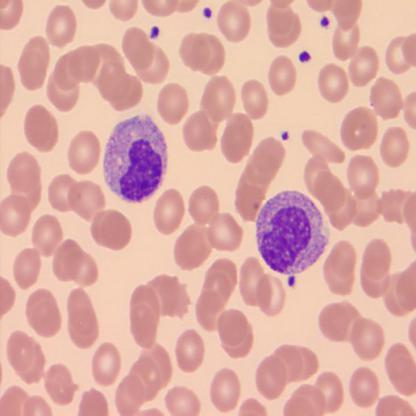Metamyelocyte: (253, 187, 330, 278), (102, 113, 168, 205)
